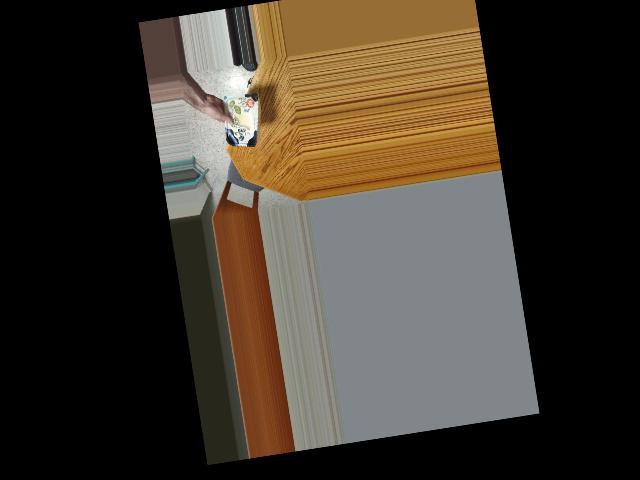cheese: (213, 98, 263, 148)
